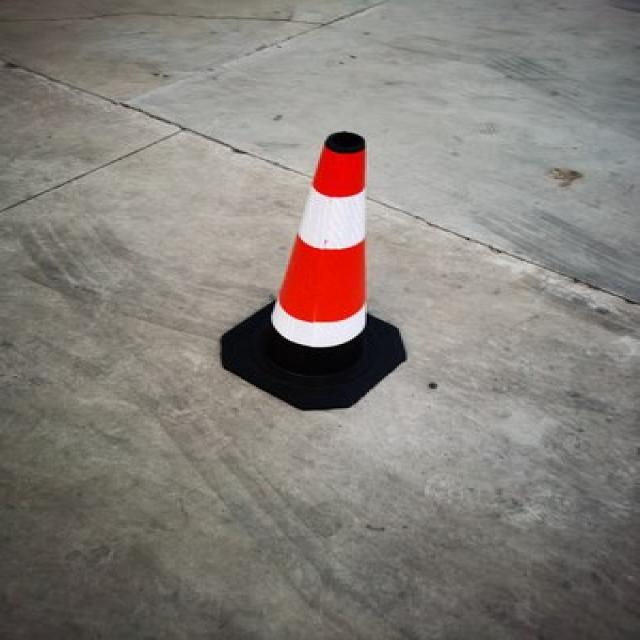reflective_cone: (216, 130, 403, 410)
